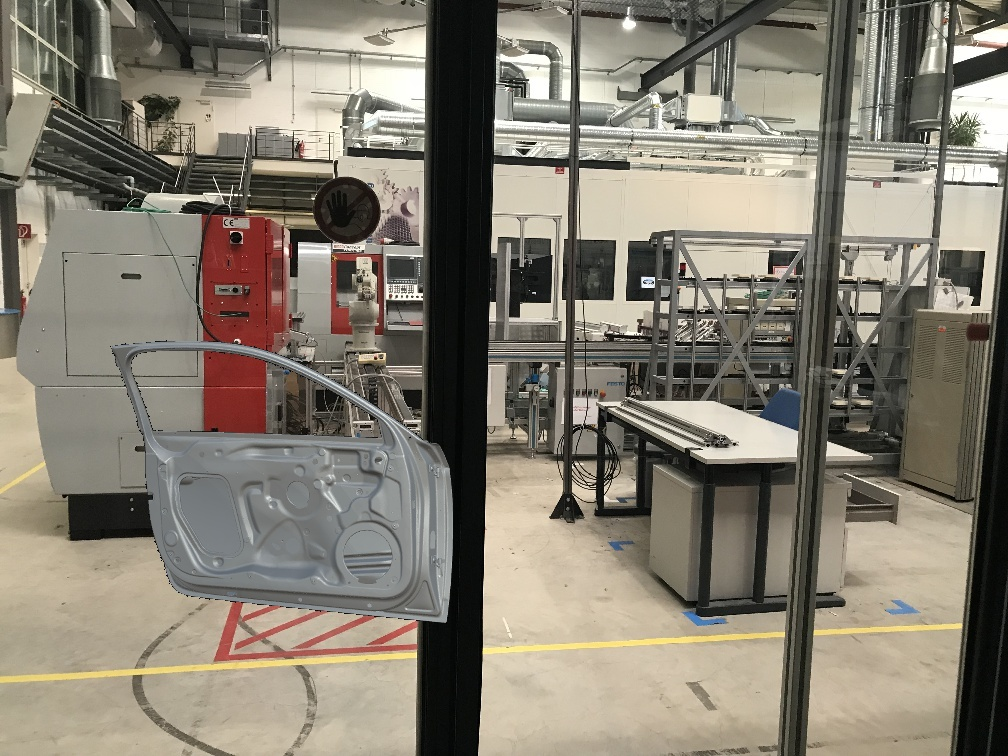car_door: (110, 340, 452, 623)
